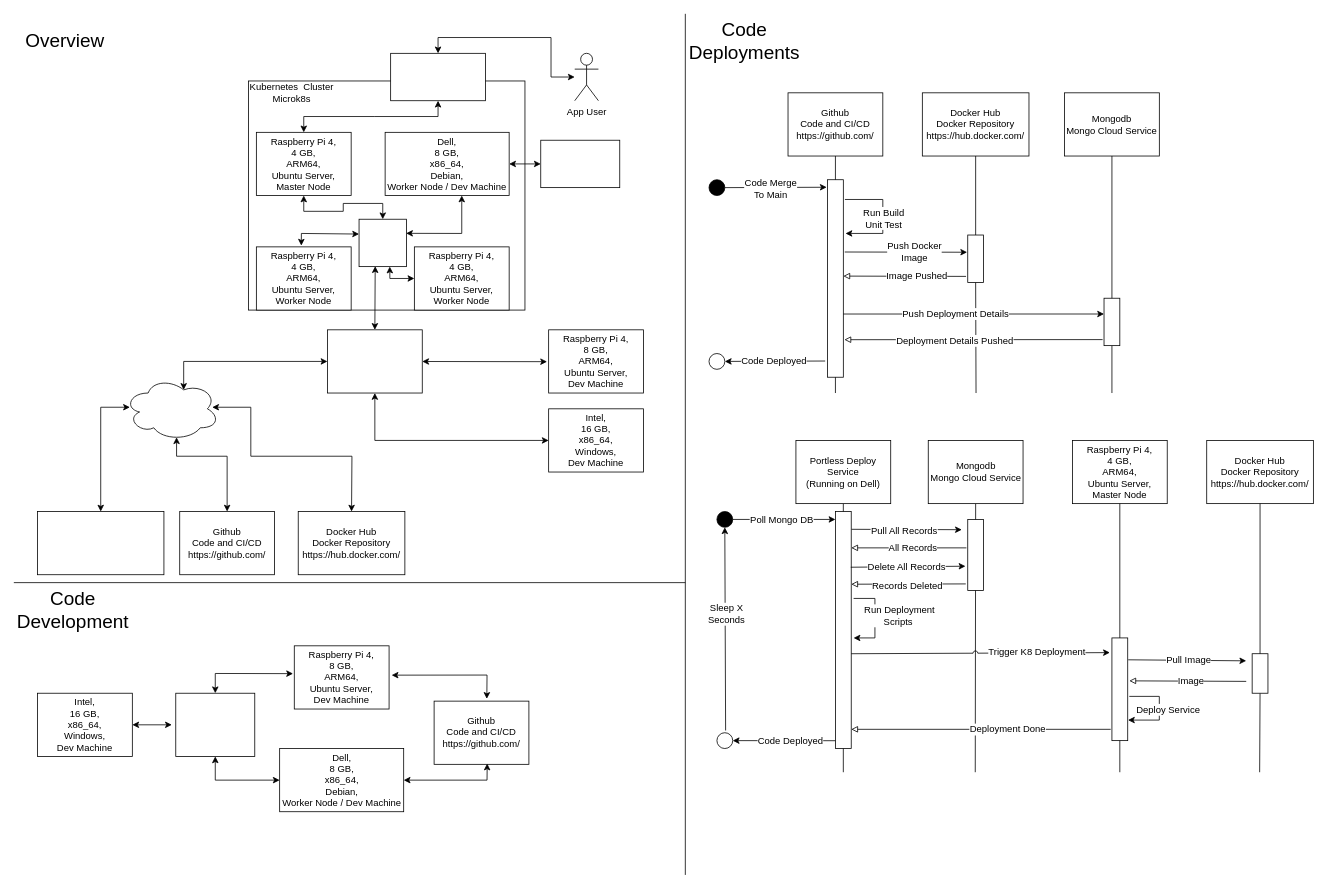
The diagram is 1327 pixels wide and 890 high, and some of its shapes have lost their labels. The shapes that lost their labels are listed below. From the top down, each one's centre as x and y in pixels, then its label:
(x=437, y=77): NGINX Ingress Controller
(x=580, y=163): Portless Deploy Service
(x=382, y=242): Switch tp-link 5 Port Gigabit
(x=374, y=361): Router
(x=100, y=543): Mongodb Mongo Cloud Service https://www.mongodb.com/
(x=215, y=724): Visual Studio Code Remote Explorer Or SSH Client
